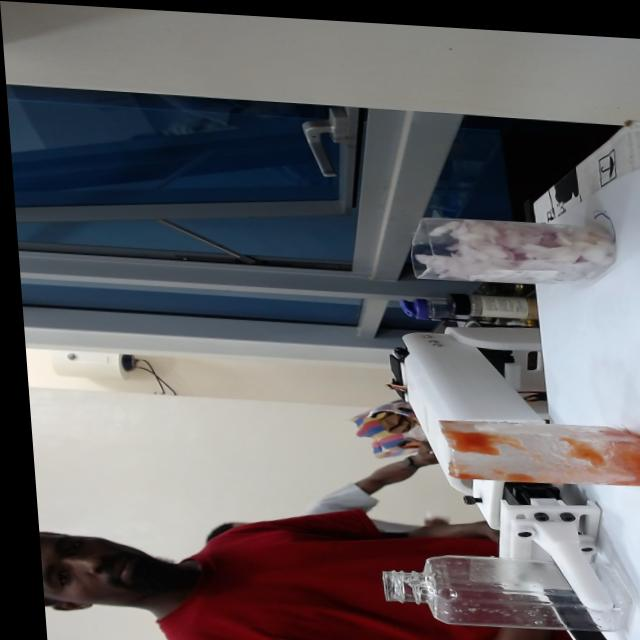blended_tomatoes_pepper: (526, 415, 640, 480)
sliced_onions: (410, 209, 617, 279)
